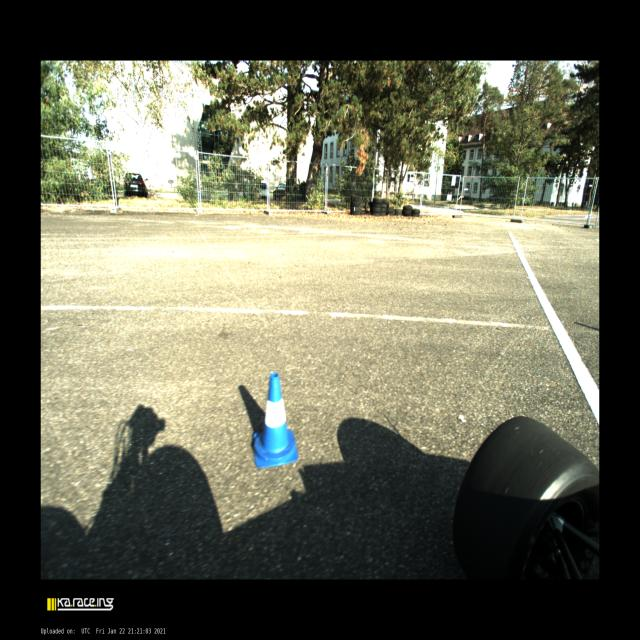blue_cone: (253, 373, 298, 468)
